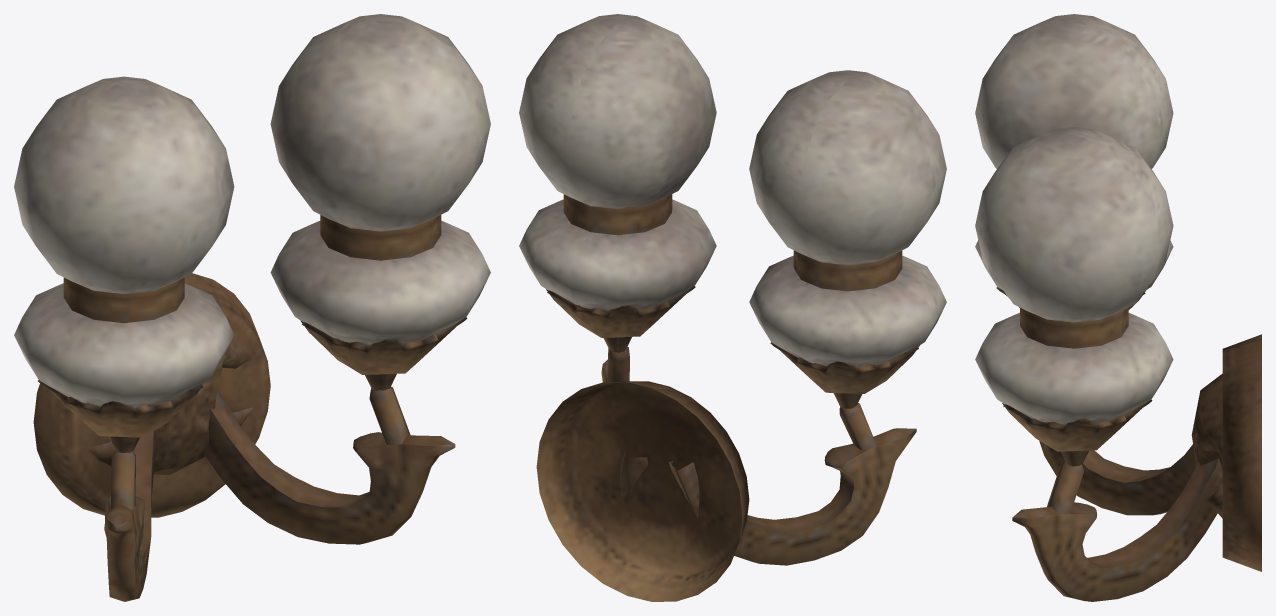
Rendered from sm35_068_bracketlight01a.fbx.
The picture shows the model from 3 angles, left to right: view 1: azimuth 30°, elevation 25°; view 2: azimuth 150°, elevation 25°; view 3: azimuth 270°, elevation 25°; orthographic projection. The views are drawn at different scales.
Visible parts, largest first — view 1: LOD_1_Group_0_Sub_1__sm35_068_BracketLight01A_A_Mat, LOD_1_Group_0_Sub_2__sm35_068_BracketLight01A_A_Mat__Env_Emi; view 2: LOD_1_Group_0_Sub_1__sm35_068_BracketLight01A_A_Mat, LOD_1_Group_0_Sub_2__sm35_068_BracketLight01A_A_Mat__Env_Emi; view 3: LOD_1_Group_0_Sub_1__sm35_068_BracketLight01A_A_Mat, LOD_1_Group_0_Sub_2__sm35_068_BracketLight01A_A_Mat__Env_Emi.
Part boxes in pixels (x1,y1,x2,y2): LOD_1_Group_0_Sub_1__sm35_068_BracketLight01A_A_Mat: (14,215,490,601); LOD_1_Group_0_Sub_2__sm35_068_BracketLight01A_A_Mat__Env_Emi: (14,14,490,294); LOD_1_Group_0_Sub_1__sm35_068_BracketLight01A_A_Mat: (519,194,946,601); LOD_1_Group_0_Sub_2__sm35_068_BracketLight01A_A_Mat__Env_Emi: (519,14,946,265); LOD_1_Group_0_Sub_1__sm35_068_BracketLight01A_A_Mat: (975,240,1261,601); LOD_1_Group_0_Sub_2__sm35_068_BracketLight01A_A_Mat__Env_Emi: (975,14,1173,322).
Bounding box in the file's own units: 0.4753 × 0.5422 × 0.293.
